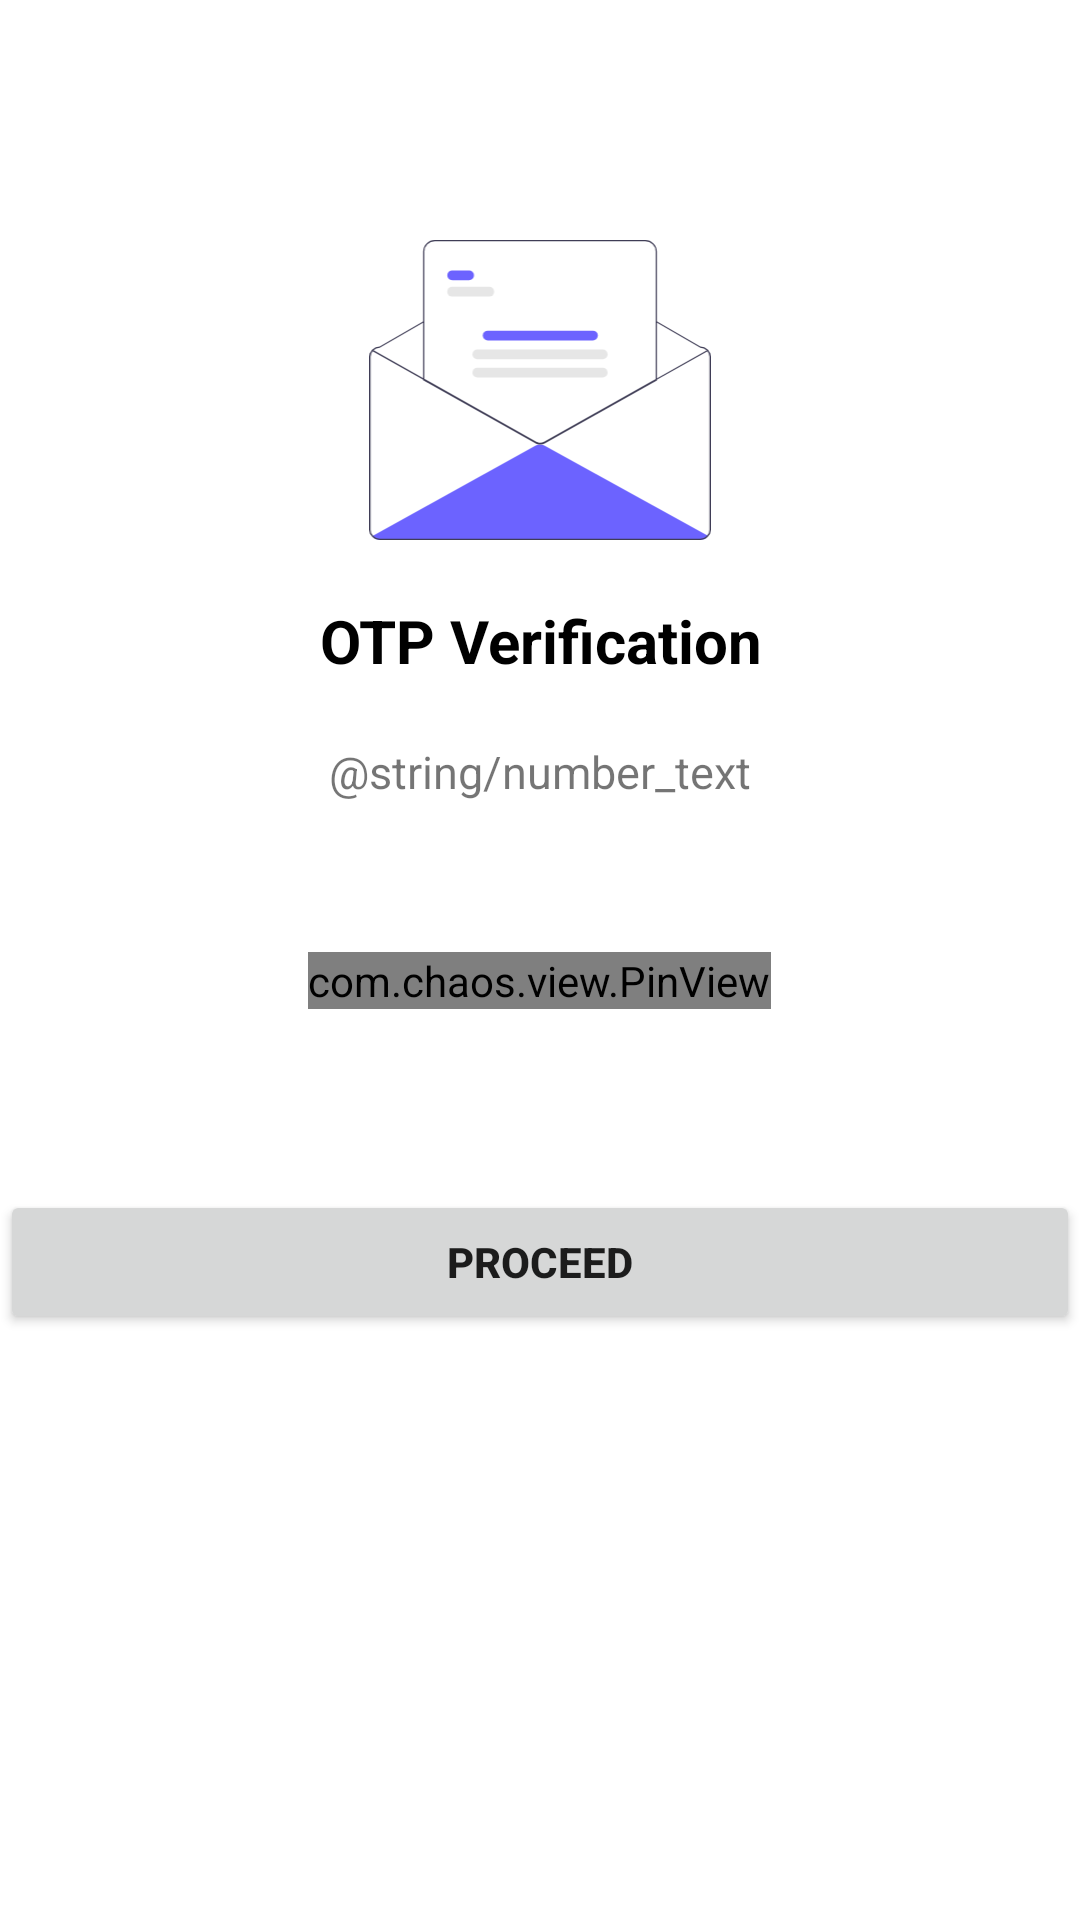

Icons on this 1080 × 1920 Android screen, each with the point to tap as (x=x, y=y):
opened: (x=540, y=390)
